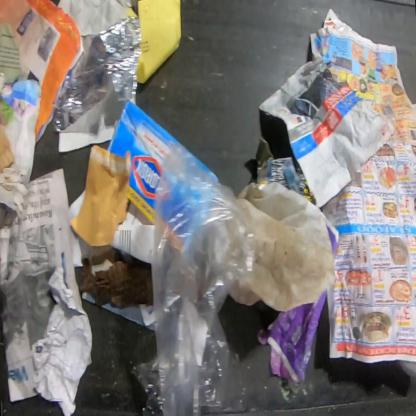cardboard: (0, 124, 16, 172)
soft_plastic: (131, 143, 255, 415), (228, 181, 334, 312), (52, 17, 142, 132)
